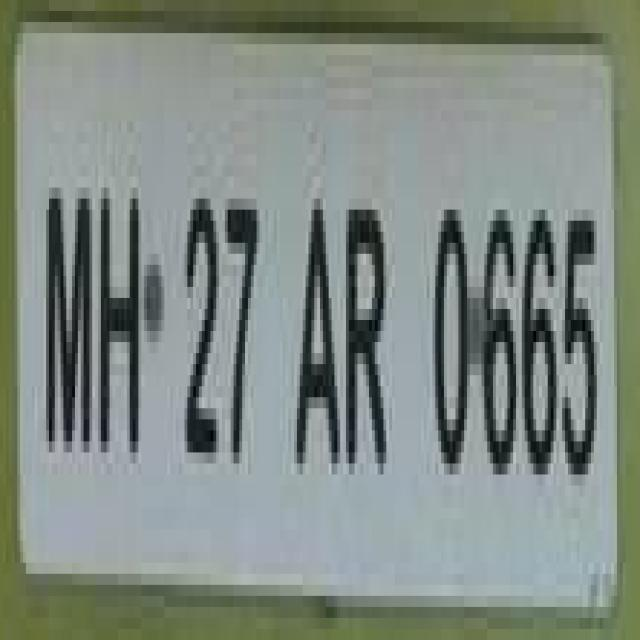license_plate: (0, 0, 611, 629)
